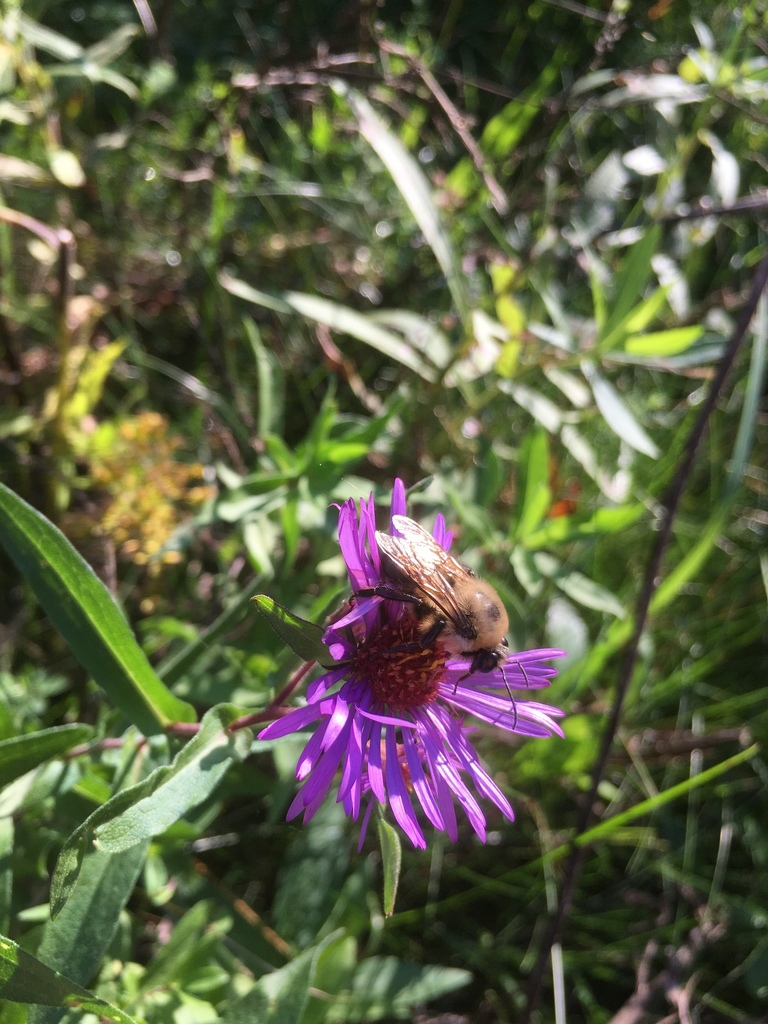bumblebee: (349, 512, 536, 729)
